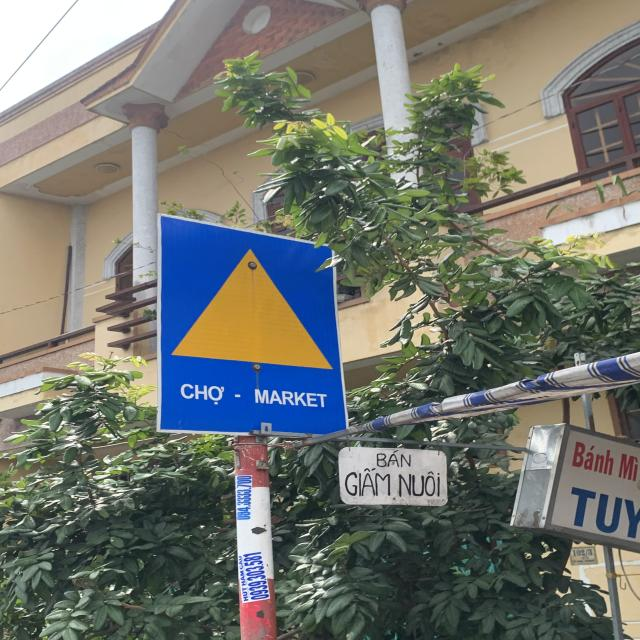Cho_Quay_Xe: (159, 219, 346, 432)
